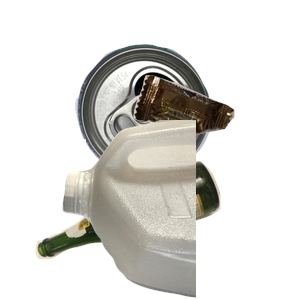glass: (33, 158, 246, 300)
metal: (73, 42, 277, 212)
plastic: (60, 120, 300, 300)
trash: (131, 73, 300, 202)
